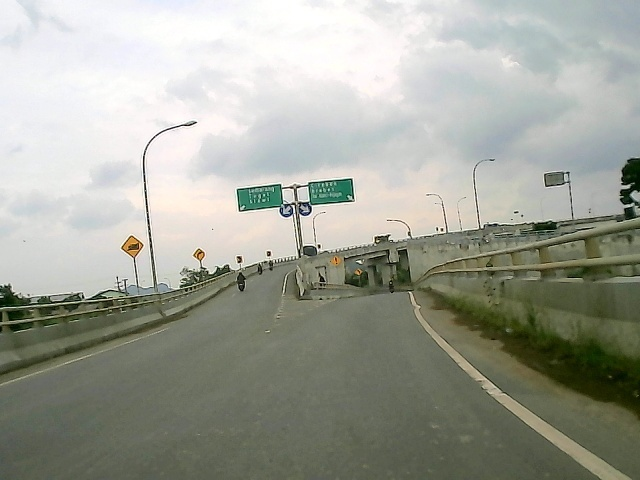Hati-hati: (330, 254, 343, 267)
Jalanan menanjak: (117, 235, 147, 260)
Tikungan ke kanan: (191, 247, 208, 264)
